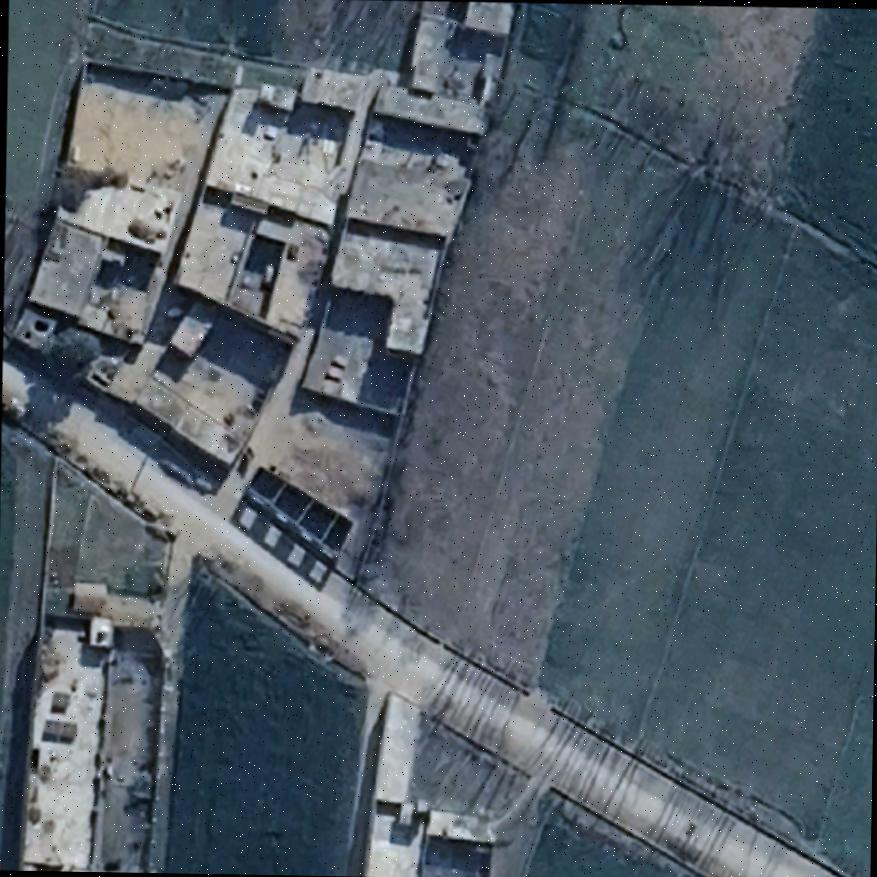Solarpanel: (40, 718, 76, 744), (47, 689, 72, 712)
